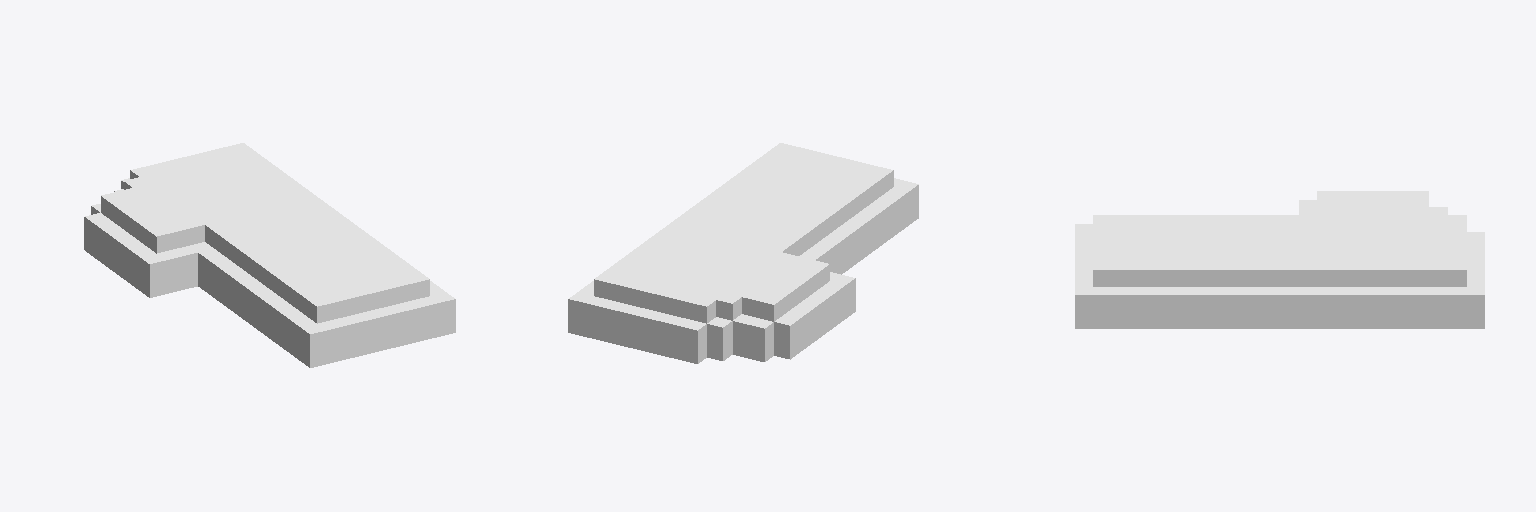
Rendered from CountDown1.obj.
3 renders of one model, left to right at view 1: azimuth 30°, elevation 25°; view 2: azimuth 150°, elevation 25°; view 3: azimuth 270°, elevation 25°, orthographic.
Visible parts, largest first — view 1: object 1; view 2: object 1; view 3: object 1.
Part boxes in pixels (x1,y1,x2,y2): object 1: (84, 143, 455, 367); object 1: (568, 143, 918, 363); object 1: (1075, 191, 1484, 328).
Size of the model in its own units: 1.2 by 0.3 by 2.2.